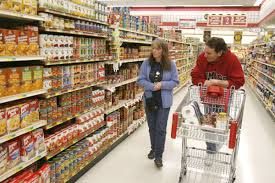Bad: (137, 37, 245, 88)
